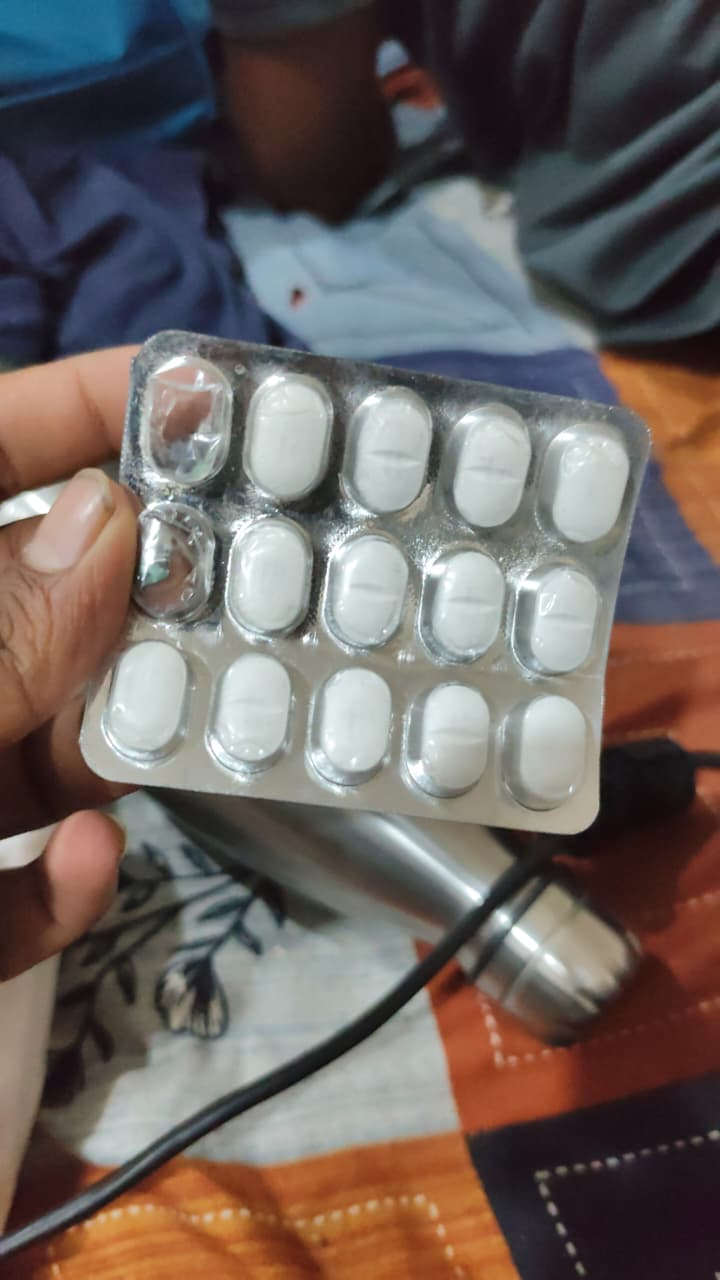MedicineStrip: (85, 330, 651, 829)
